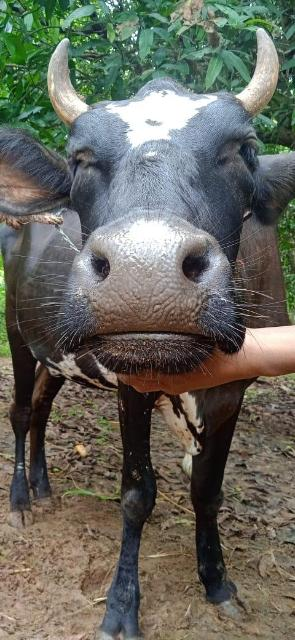Muzzle: (94, 235, 210, 335)
